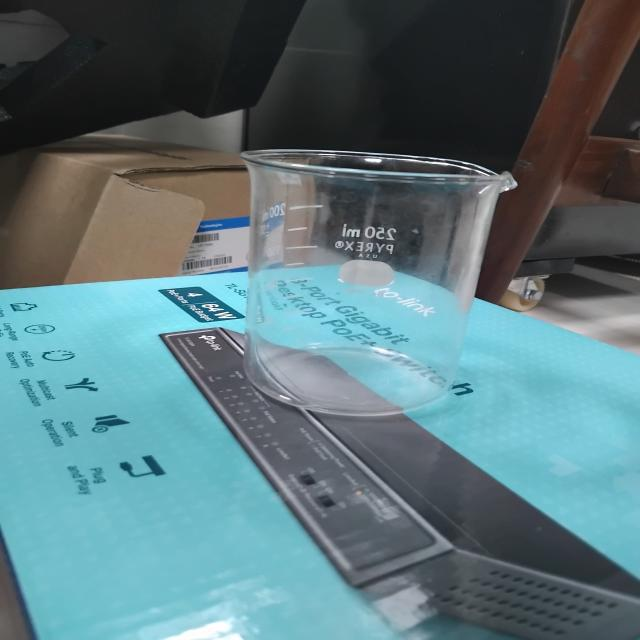Beaker: (184, 108, 512, 439)
